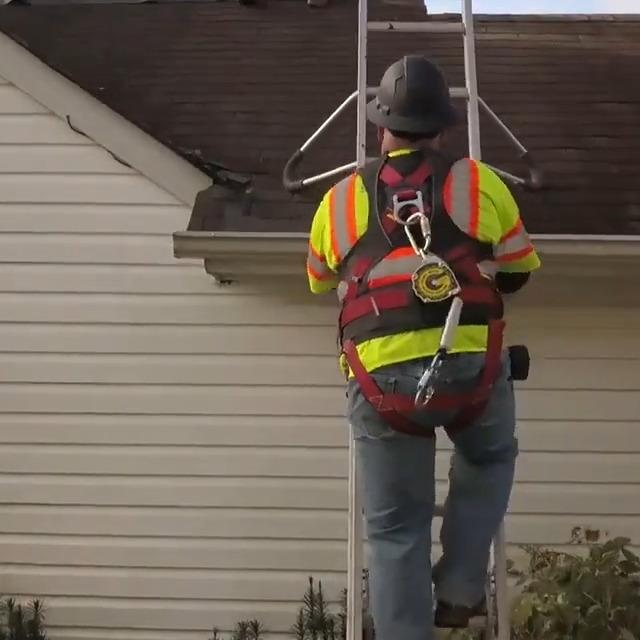Hardhat: (365, 55, 459, 134)
Ladder: (343, 0, 513, 640)
Person: (313, 52, 533, 640)
Safety Vest: (309, 157, 532, 343)
